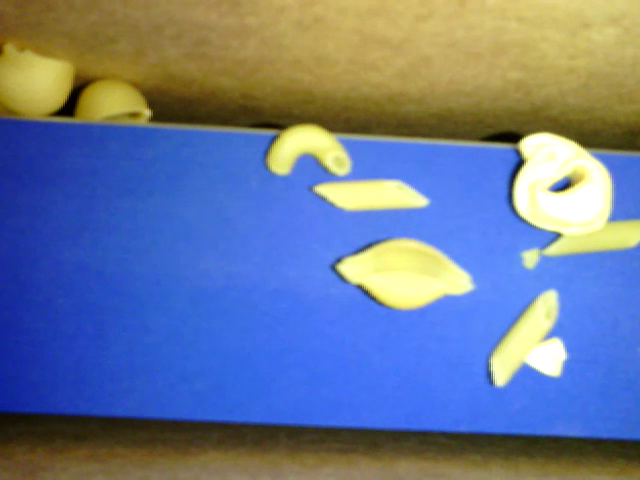elbow: (264, 123, 351, 176)
penne: (488, 287, 558, 387), (313, 179, 430, 210), (542, 220, 639, 254)
shell: (332, 235, 472, 309), (1, 43, 75, 115), (74, 77, 152, 124)
tortellini: (512, 132, 613, 236)
